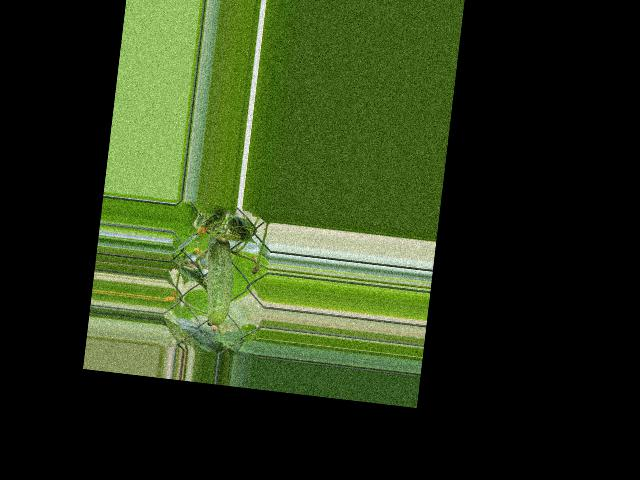cucumber: (199, 231, 238, 332)
